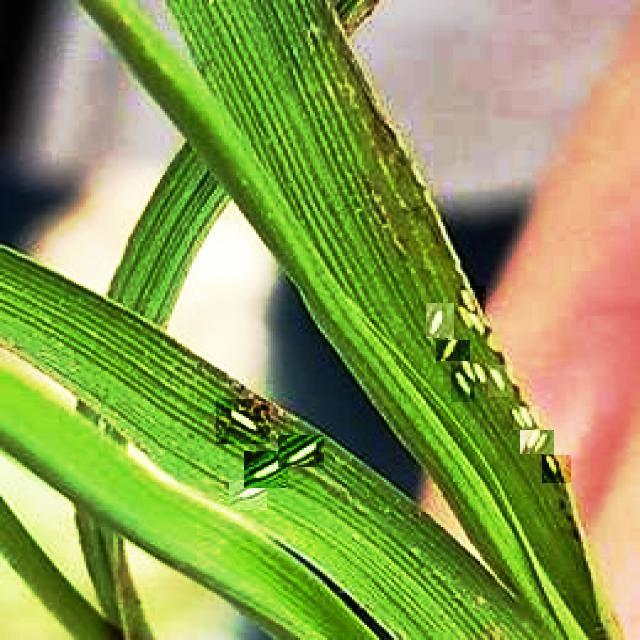whorl-maggot: (216, 399, 270, 444), (244, 451, 288, 488), (278, 435, 324, 467), (229, 480, 267, 510), (426, 303, 454, 338), (451, 365, 474, 402), (520, 430, 554, 454), (542, 455, 571, 483), (488, 366, 513, 398), (460, 286, 486, 314), (436, 340, 470, 361), (513, 406, 539, 430)
